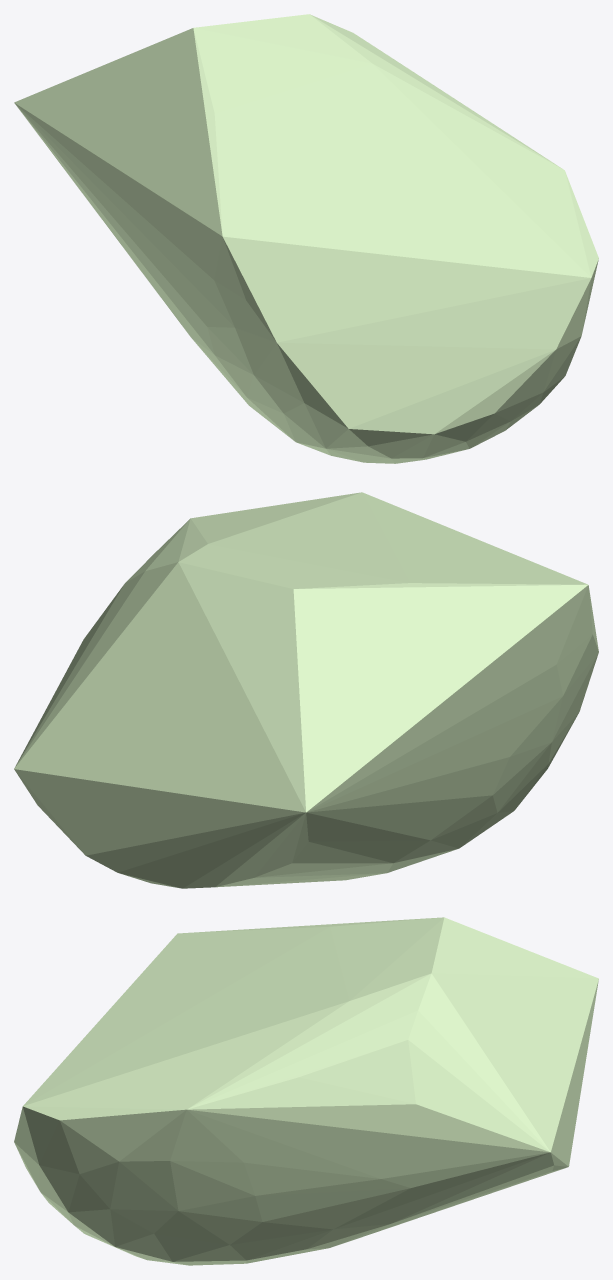
Rendered from kuka_link2_resp_coll_2.dae.
3 renders of one model, top to bottom at view 1: azimuth 30°, elevation 25°; view 2: azimuth 150°, elevation 25°; view 3: azimuth 270°, elevation 25°, orthographic. The views are drawn at different scales.
Visible parts, largest first — view 1: Node_0000015C5C912980; view 2: Node_0000015C5C912980; view 3: Node_0000015C5C912980.
Part boxes in pixels (x1,y1,x2,y2): Node_0000015C5C912980: [14, 14, 598, 463]; Node_0000015C5C912980: [14, 492, 598, 888]; Node_0000015C5C912980: [14, 917, 598, 1265].
Bounding box in the file's own units: 0.1325 × 0.1206 × 0.2104.
